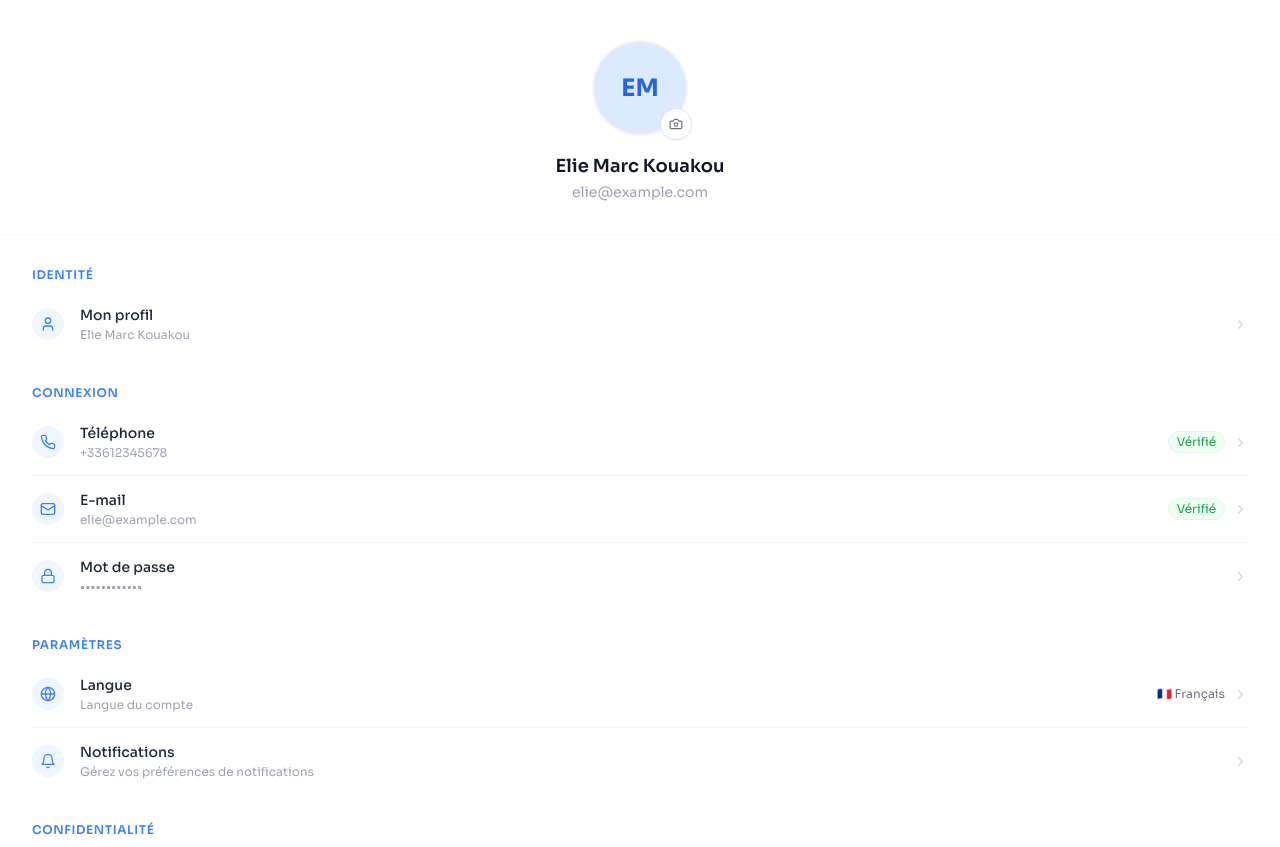
Test case: ProfilePage › refuse des nouveaux mots de passe différents
Click the button "Mot de passe ••••••••••••": (48, 576) [32,543,1248,609]
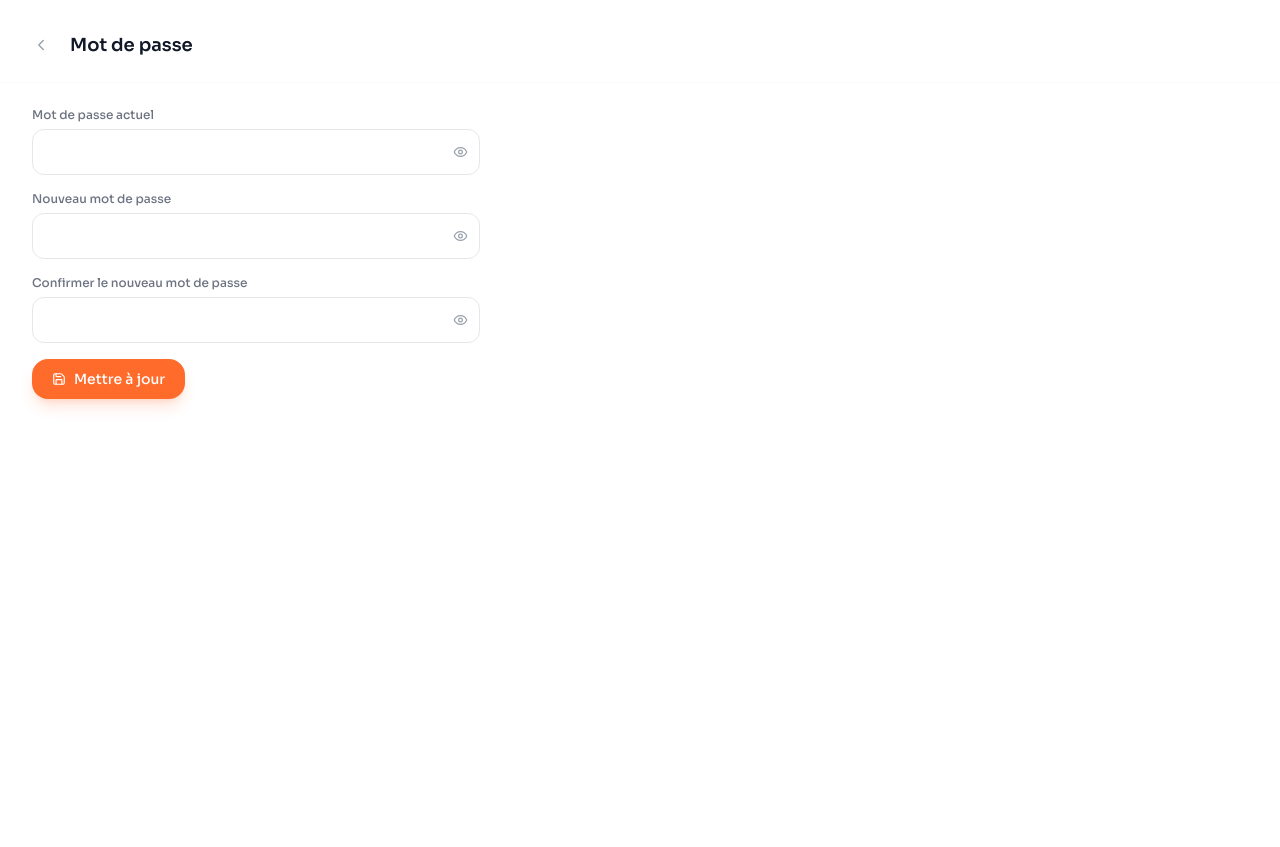
In the password field below "Mot de passe actuel": (256, 152) [32,129,480,175], type "Ancien123!"
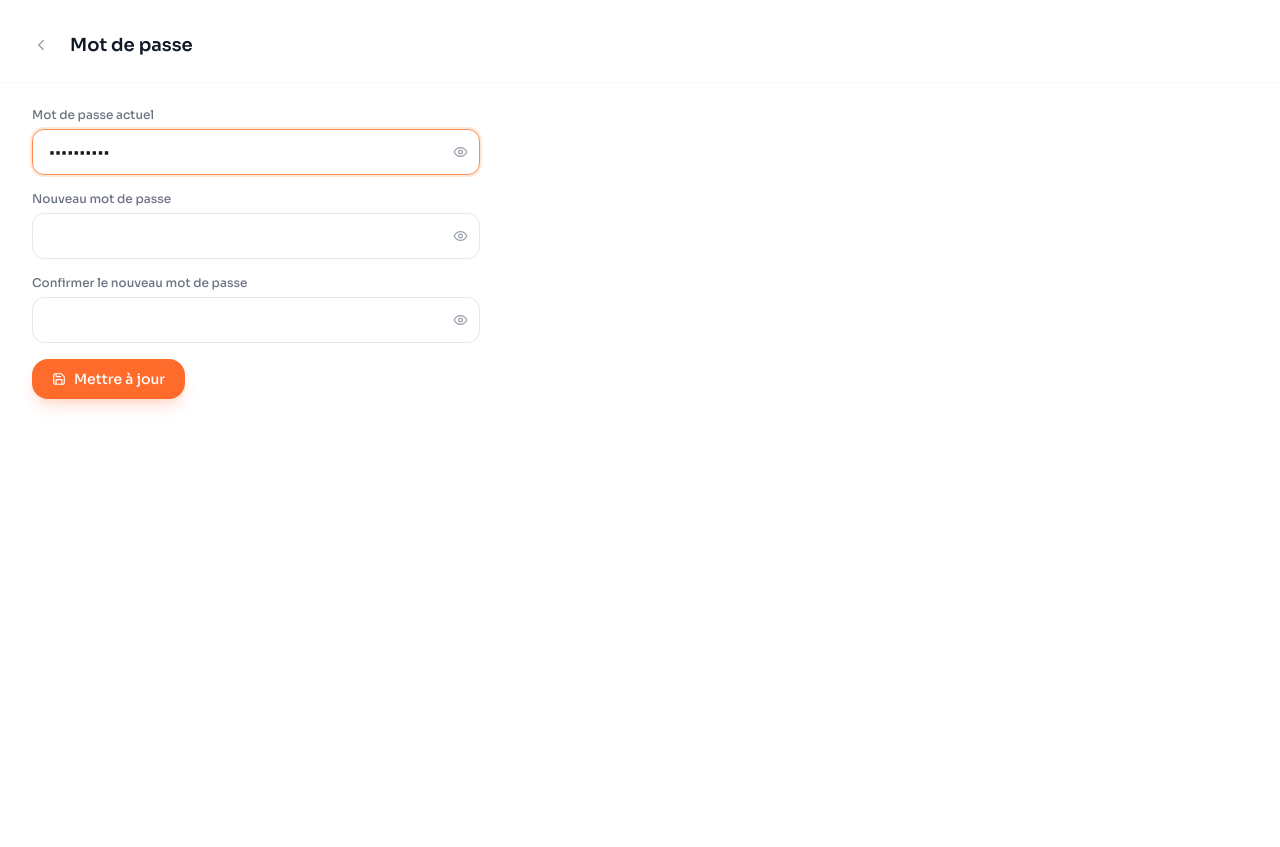
In the 2nd password field: (256, 236) [32,213,480,259], type "Nouveau123!"
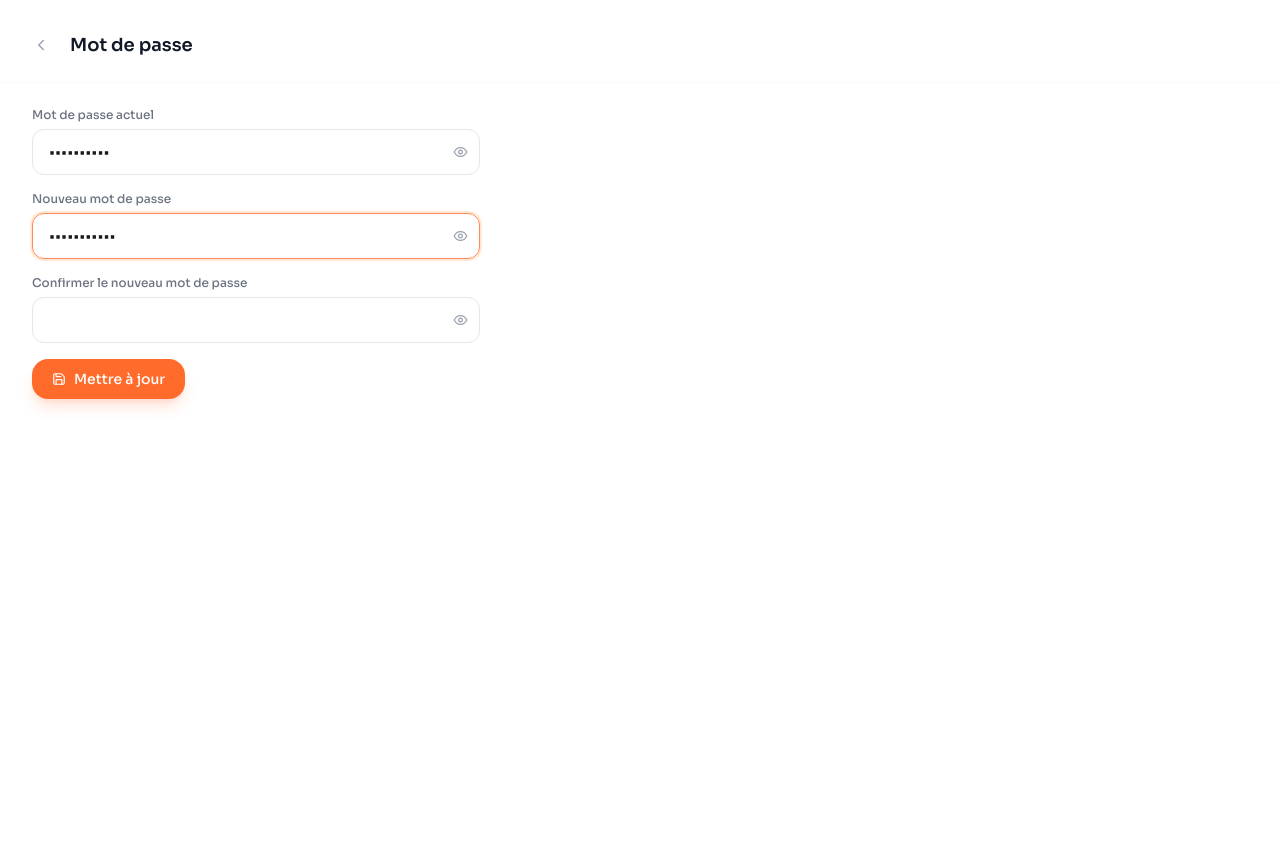
In the password field below "Confirmer le nouveau mot de passe": (256, 320) [32,297,480,343], type "Different123!"
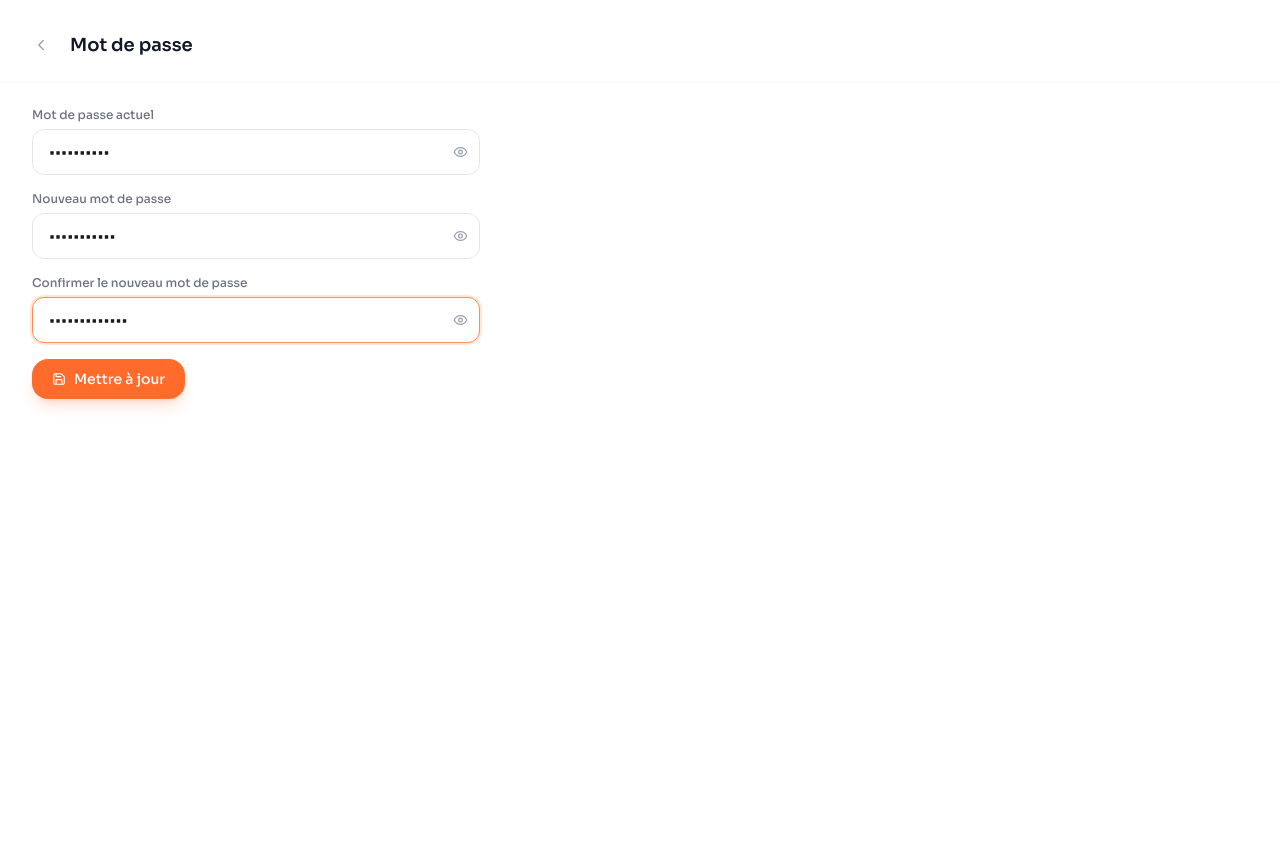
Click the button "Mettre à jour": (109, 379) [32,359,185,399]
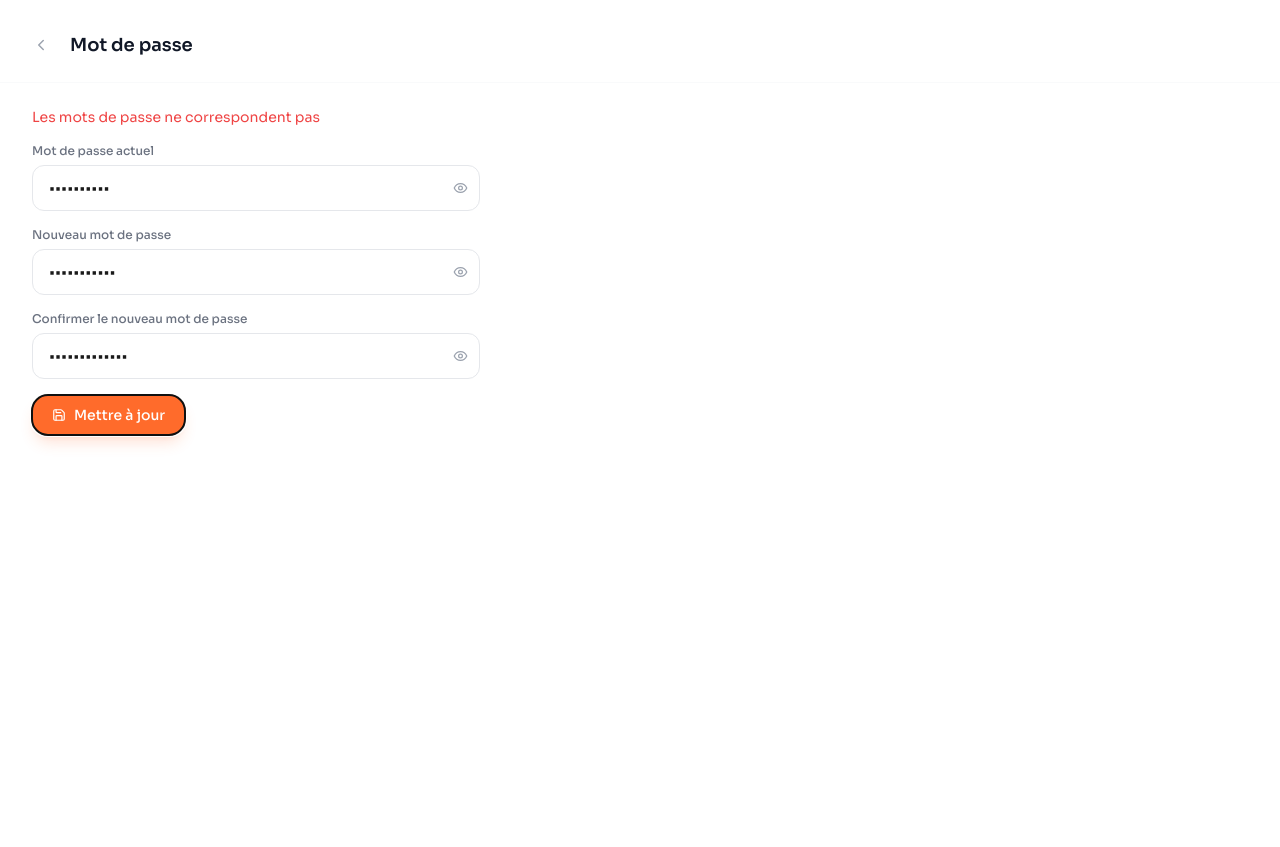
Expected: the text "Les mots de passe ne correspondent pas" is shown, [32,108,320,126]
